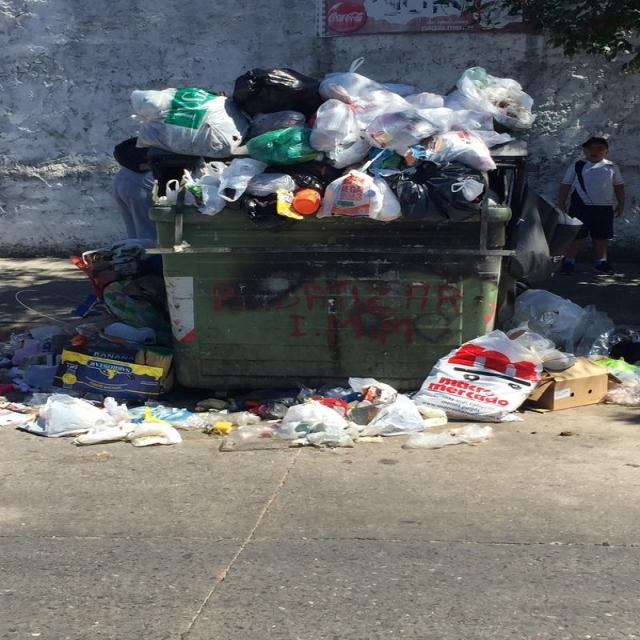garbage: (108, 52, 538, 231), (0, 243, 164, 448), (414, 284, 640, 418), (166, 375, 504, 443)
